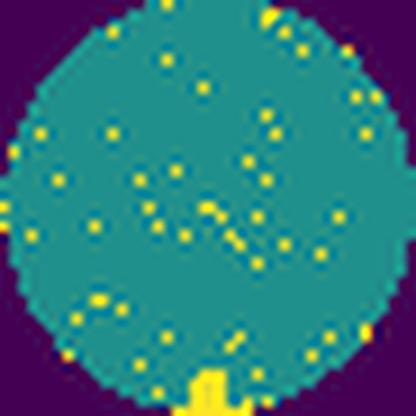Edge-Loc: (173, 364, 254, 416)
